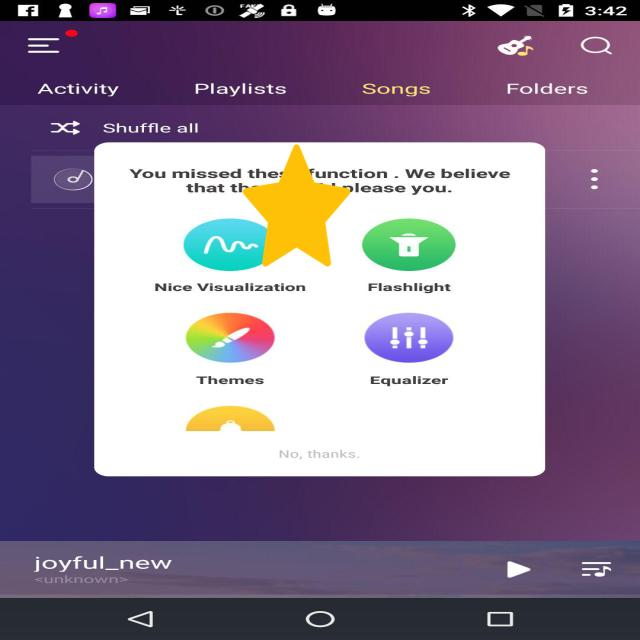forced continuity: (243, 144, 350, 267)
